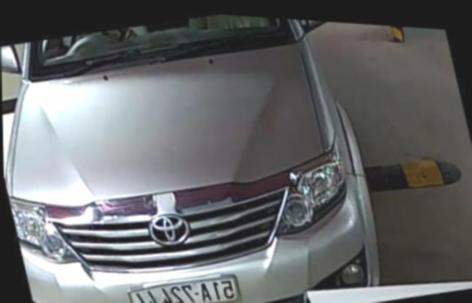License_Plate: (123, 267, 239, 303)
